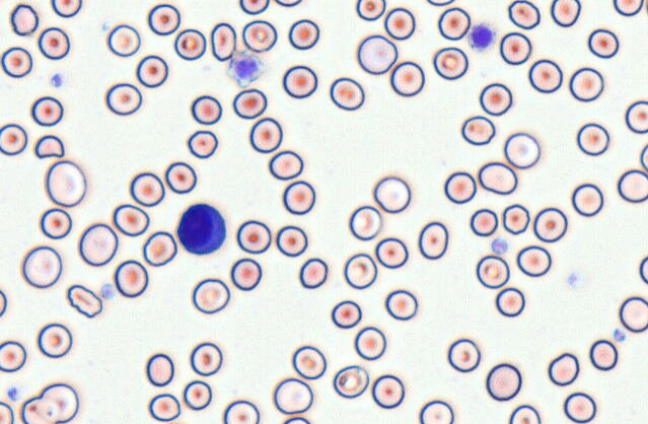LYM: (176, 202, 226, 255)
PLT: (233, 54, 262, 83), (468, 23, 494, 50), (491, 234, 509, 254), (6, 384, 24, 401), (100, 282, 116, 300), (50, 72, 66, 89), (612, 327, 630, 342)
RBC: (45, 159, 86, 207), (21, 245, 62, 288), (78, 222, 118, 266), (38, 382, 79, 423), (356, 34, 397, 74), (272, 377, 313, 414), (373, 175, 411, 213), (191, 277, 230, 314), (485, 362, 522, 401), (503, 132, 540, 169), (477, 161, 517, 195), (389, 60, 425, 96), (114, 259, 148, 297), (129, 171, 165, 206), (142, 230, 177, 266), (37, 322, 72, 358), (332, 364, 369, 398), (343, 252, 377, 289), (236, 219, 271, 254), (105, 23, 141, 57), (66, 284, 102, 318), (348, 204, 382, 240), (432, 46, 468, 80), (533, 206, 567, 242), (112, 203, 149, 236), (105, 82, 142, 115), (282, 64, 317, 98), (329, 76, 364, 110), (291, 345, 326, 379), (528, 58, 562, 93), (569, 67, 604, 101), (249, 117, 282, 153), (241, 19, 277, 52), (417, 221, 448, 259), (475, 254, 509, 288), (282, 180, 315, 215), (189, 341, 222, 376), (371, 374, 404, 409), (353, 326, 386, 360), (447, 338, 480, 372), (479, 82, 512, 116), (576, 122, 609, 156), (516, 245, 551, 277), (164, 161, 197, 194), (437, 7, 470, 40), (443, 171, 476, 204), (37, 26, 70, 59), (230, 257, 262, 291), (547, 352, 579, 386), (384, 288, 418, 320), (499, 31, 531, 65), (232, 88, 267, 119), (618, 296, 647, 333), (275, 224, 307, 257), (375, 236, 408, 268), (39, 207, 72, 239), (136, 54, 168, 87), (173, 28, 206, 60), (563, 391, 596, 423), (571, 183, 603, 216), (383, 7, 415, 40), (147, 3, 180, 35), (268, 150, 303, 180), (460, 115, 495, 145), (0, 46, 32, 78), (30, 95, 63, 126), (617, 169, 647, 203), (210, 22, 236, 61), (190, 94, 222, 125), (288, 18, 319, 50), (145, 353, 174, 387), (20, 395, 55, 423), (587, 28, 619, 58), (148, 393, 181, 422), (507, 0, 540, 29), (495, 286, 525, 317), (182, 379, 212, 410), (298, 257, 327, 289), (589, 339, 618, 371), (501, 203, 530, 234), (330, 299, 361, 328), (187, 129, 218, 158), (222, 399, 259, 423), (0, 123, 27, 155), (418, 399, 454, 423), (550, 0, 581, 27), (0, 340, 26, 372), (469, 208, 498, 236), (625, 100, 647, 133), (355, 0, 385, 21), (508, 404, 541, 423), (50, 0, 82, 17), (613, 0, 643, 16), (239, 0, 269, 15), (0, 401, 14, 423), (639, 143, 647, 172), (639, 255, 647, 284), (282, 416, 311, 423), (0, 289, 7, 317), (274, 0, 302, 7), (426, 0, 455, 6)
Schistocyte: (11, 3, 38, 37), (36, 135, 65, 158)
